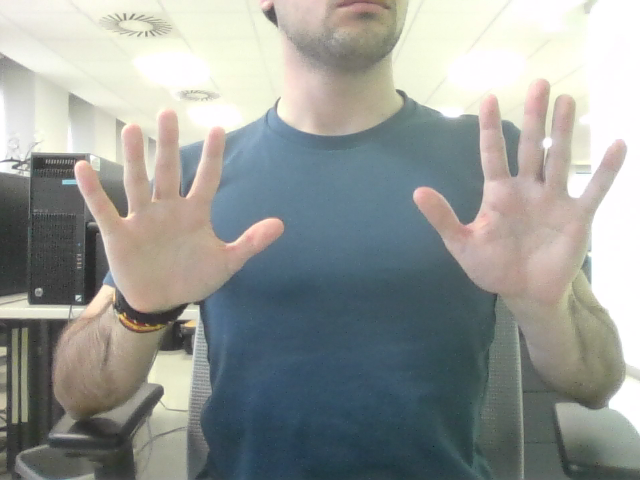Manos Arriba: (111, 100, 591, 275)
